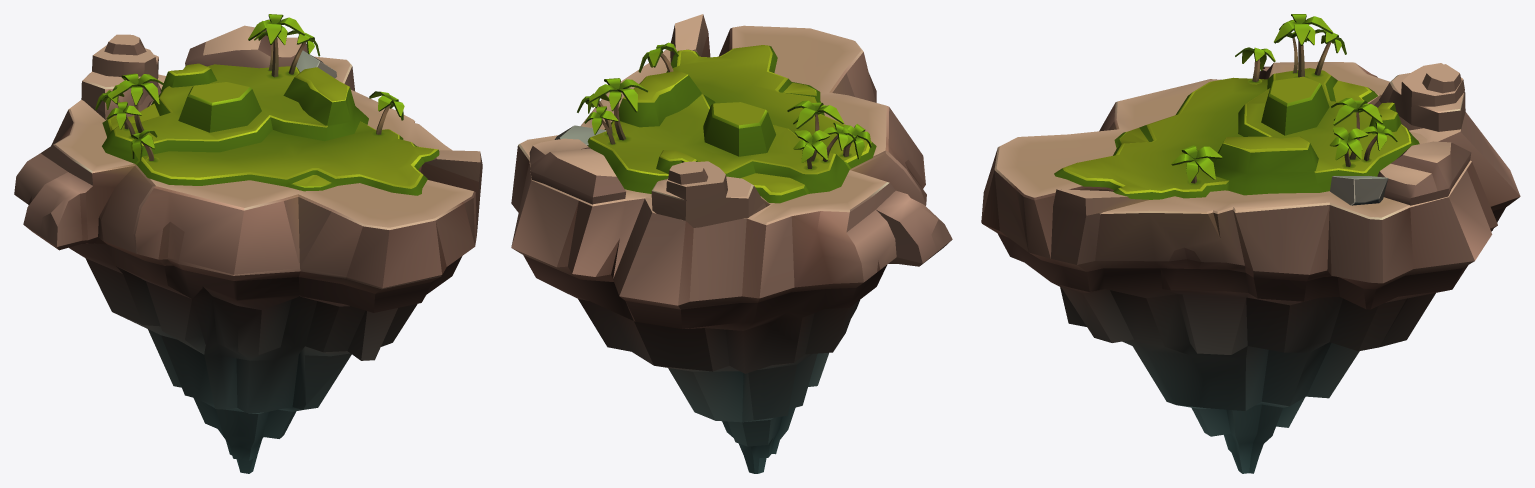
The model's file is Pirate_Big_Island_1.fbx.
3 renders of one model, left to right at view 1: azimuth 30°, elevation 25°; view 2: azimuth 150°, elevation 25°; view 3: azimuth 270°, elevation 25°, orthographic. The views are drawn at different scales.
Parts seen in each view (by area): view 1: Plane, Plane.001, Plane.014, Plane.003, Plane.002, Plane.030, Plane.027, Plane.004, Plane.009, Plane.041, Plane.031, Plane.029; view 2: Plane, Plane.001, Plane.014, Plane.002, Plane.003, Plane.030, Plane.028, Plane.027, Plane.041, Plane.032, Plane.009, Plane.004 (+2 smaller); view 3: Plane, Plane.001, Plane.014, Plane.002, Plane.003, Plane.006, Plane.027, Plane.009, Plane.031, Plane.030, Plane.041, Plane.028 (+1 smaller).
Boxes of the visible parts, x1,y1,x2,y2 form: Plane: [14, 56, 482, 473]; Plane.001: [102, 64, 439, 195]; Plane.014: [81, 34, 158, 112]; Plane.003: [178, 82, 261, 132]; Plane.002: [185, 25, 307, 68]; Plane.030: [248, 14, 305, 79]; Plane.027: [111, 73, 164, 135]; Plane.004: [161, 63, 217, 91]; Plane.009: [369, 91, 404, 136]; Plane.041: [130, 130, 159, 162]; Plane.031: [284, 30, 320, 76]; Plane.029: [106, 101, 141, 139]; Plane: [511, 14, 952, 473]; Plane.001: [587, 45, 876, 203]; Plane.014: [651, 161, 764, 227]; Plane.002: [529, 138, 625, 204]; Plane.003: [703, 102, 775, 156]; Plane.030: [589, 78, 647, 142]; Plane.028: [793, 130, 830, 170]; Plane.027: [787, 100, 843, 163]; Plane.041: [838, 124, 871, 159]; Plane.032: [584, 106, 618, 145]; Plane.009: [638, 42, 678, 72]; Plane.004: [656, 150, 697, 173]; Plane: [981, 61, 1520, 473]; Plane.001: [1054, 68, 1419, 199]; Plane.014: [1379, 63, 1465, 131]; Plane.002: [1377, 141, 1471, 205]; Plane.003: [1261, 76, 1329, 135]; Plane.006: [1330, 176, 1388, 205]; Plane.027: [1274, 14, 1333, 78]; Plane.009: [1171, 145, 1222, 185]; Plane.031: [1329, 127, 1368, 168]; Plane.030: [1331, 97, 1382, 162]; Plane.041: [1235, 47, 1275, 84]; Plane.028: [1309, 29, 1346, 77].
Size of the model in its own units: 89.23 by 92.04 by 110.
